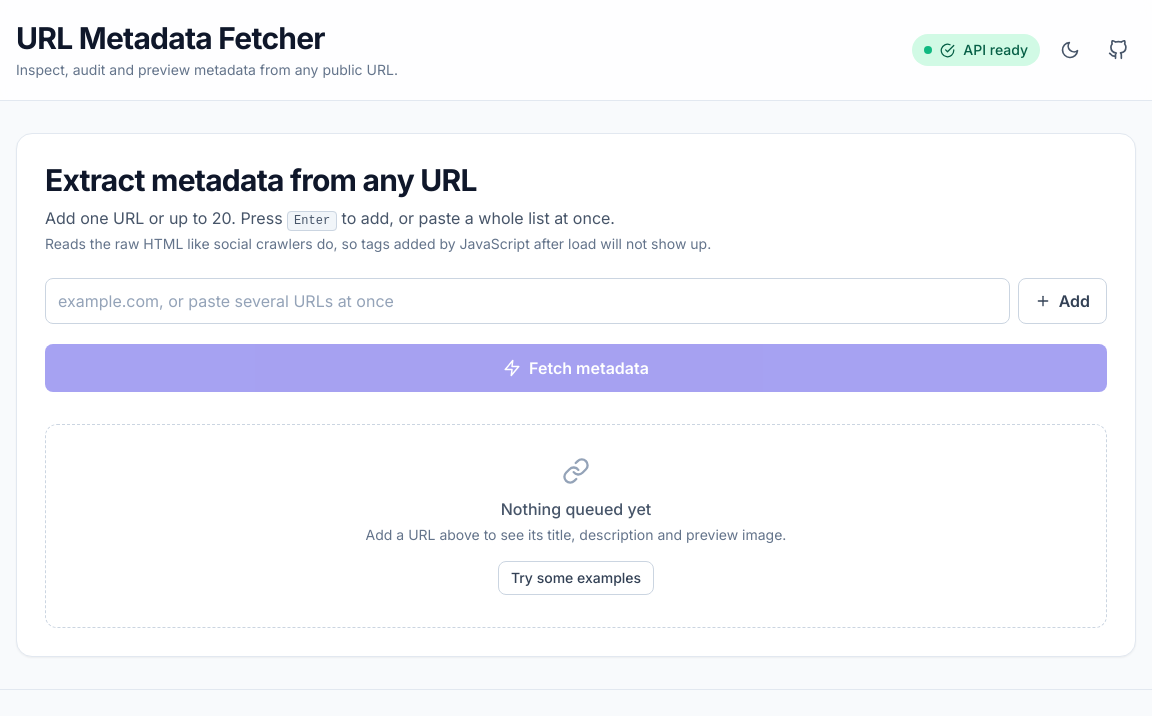
it: App › removes a queued URL
The image size is (1152, 716).
Check: the message reads "API ready", box [963,41,1028,58]
Type "a.dev" into the field named "web address".
click(527, 301); type("a.dev")  # box [45,278,1010,324]
Then press Enter
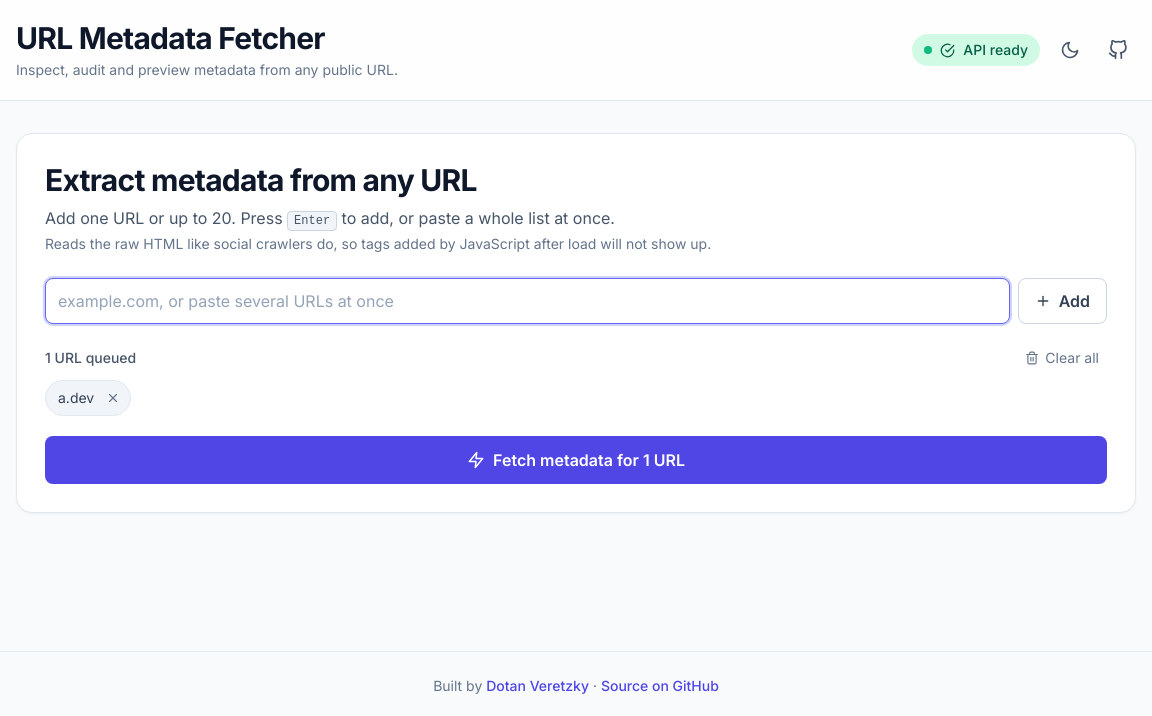
Click the button named "remove https://a.dev".
click(113, 398)  # box [102,387,124,409]
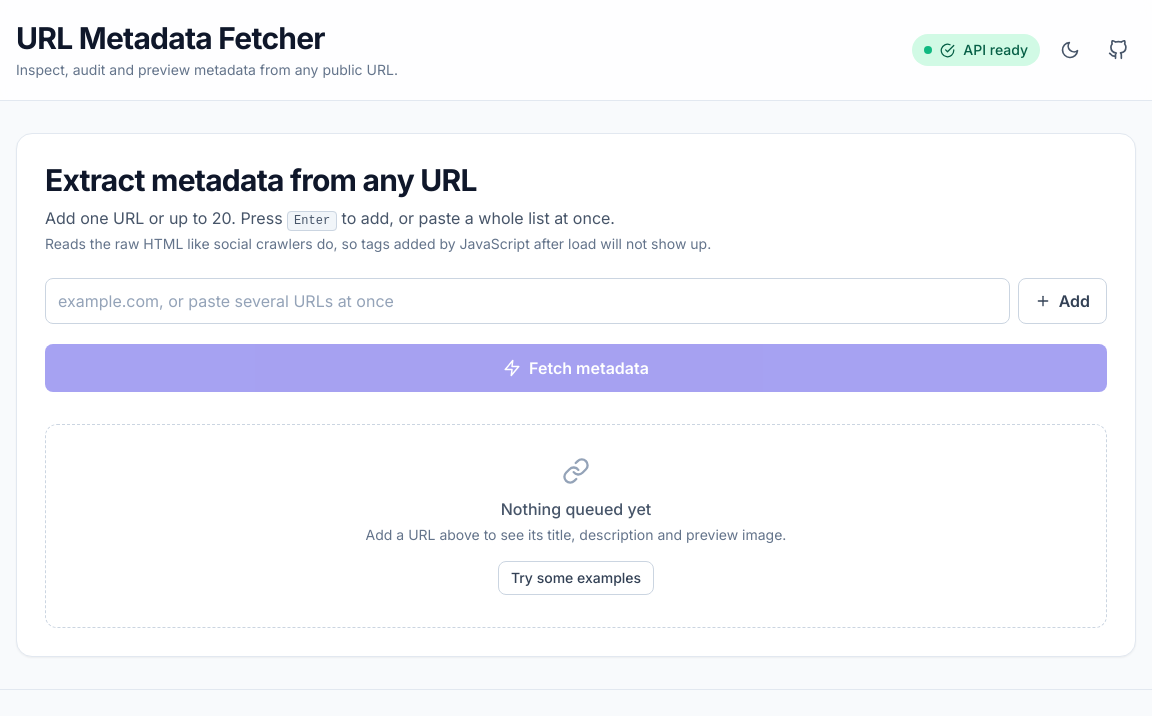
Check: the text "1 URL queued" is gone
